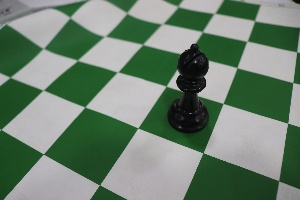black_bishop: (164, 31, 215, 144)
